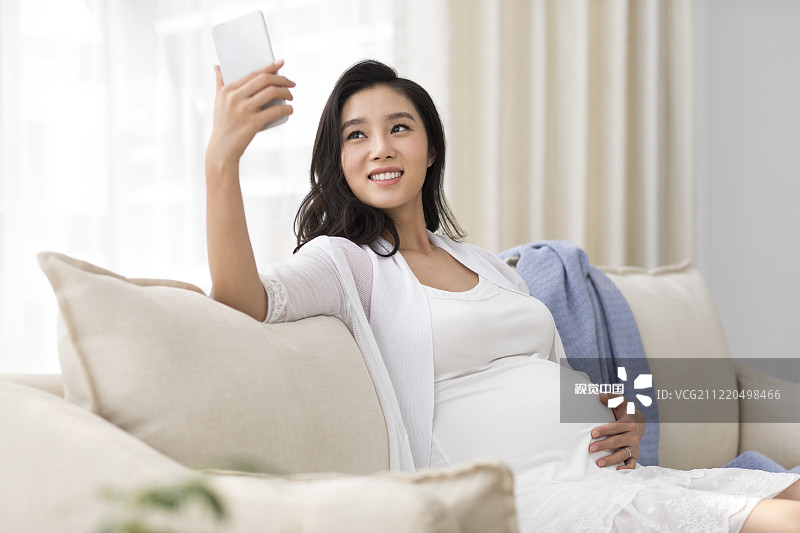taking photos: (191, 20, 307, 183)
